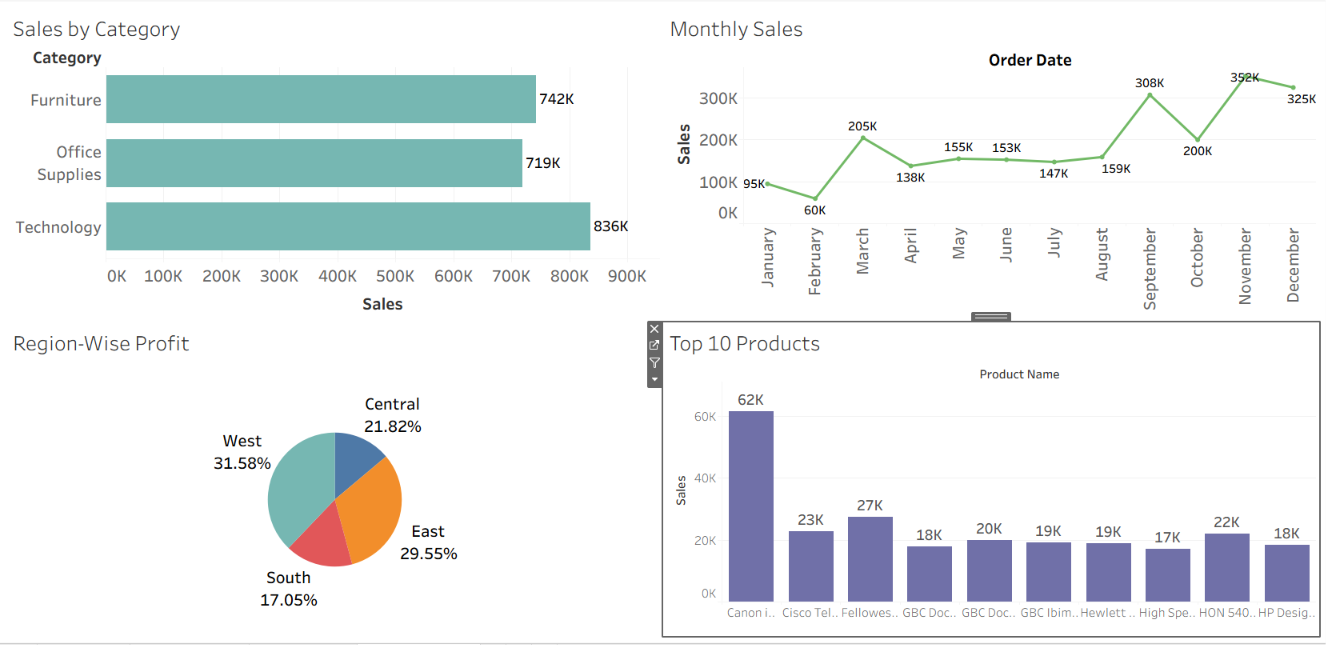

Layout of this report page (visuals, bound fields, positions):
{"tool":"tableau","page":{"name":"Sales Dashboard","canvas":[1000,1000],"units":"permille","ordinal":0},"visuals":[{"type":"worksheet","title":"Sales by Category","mark":"Automatic","rows":["Category"],"cols":["Sales"],"box":[4.8,10,495.2,490]},{"type":"worksheet","title":"Monthly Sales","mark":"Automatic","rows":["Sales"],"cols":["Order Date"],"box":[500,10,495.2,490]},{"type":"worksheet","title":"Region-Wise Profit","mark":"Pie","box":[4.8,500,495.2,490]},{"type":"worksheet","title":"Top 10 Products","mark":"Automatic","rows":["Sales"],"cols":["Product Name"],"box":[500,500,495.2,490]}]}

Visuals, with their boxes on the dashboard's canvas, which has no fixed pixel size, in thousandths of its width and height (x1, y1, x2, y2). These are canvas units, not pixel positions in the 1326x645 screenshot, which may show the page scaled, cropped or inside an application window:
"Sales by Category" worksheet: <box>5,10,500,500</box>
"Monthly Sales" worksheet: <box>500,10,995,500</box>
"Region-Wise Profit" worksheet (Pie marks): <box>5,500,500,990</box>
"Top 10 Products" worksheet: <box>500,500,995,990</box>
